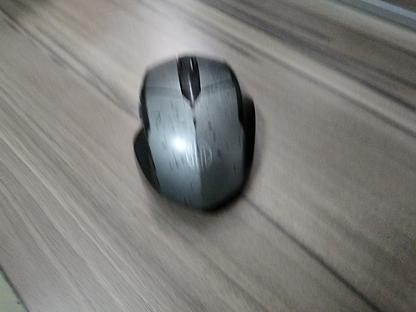mouse: (132, 52, 256, 213)
